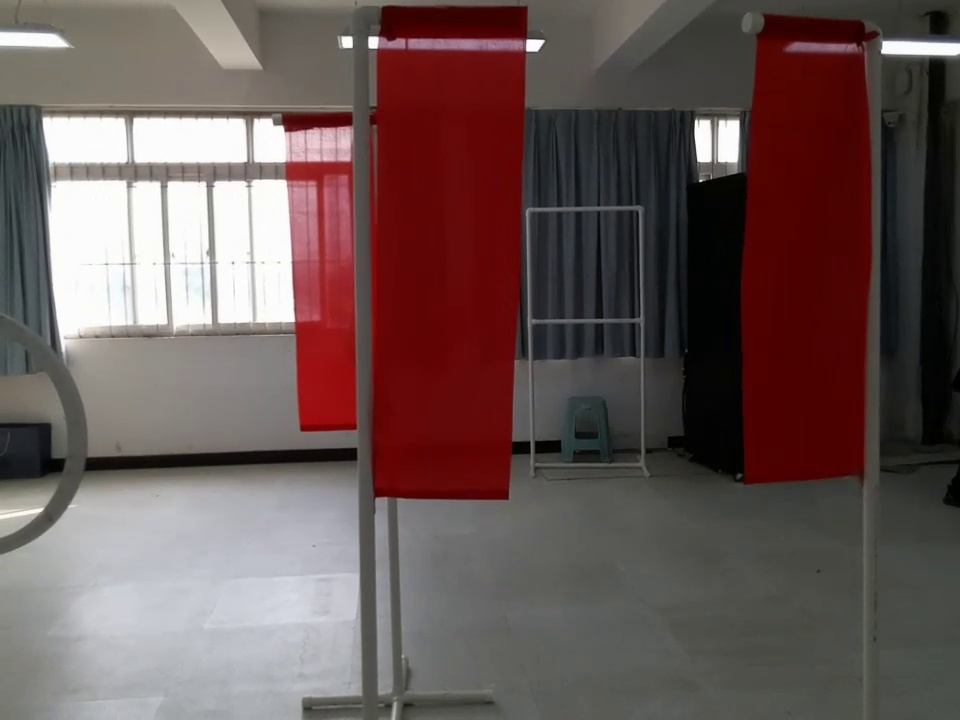qi: (346, 3, 529, 509), (729, 12, 881, 486), (268, 105, 358, 429)
quan: (5, 305, 90, 571)
